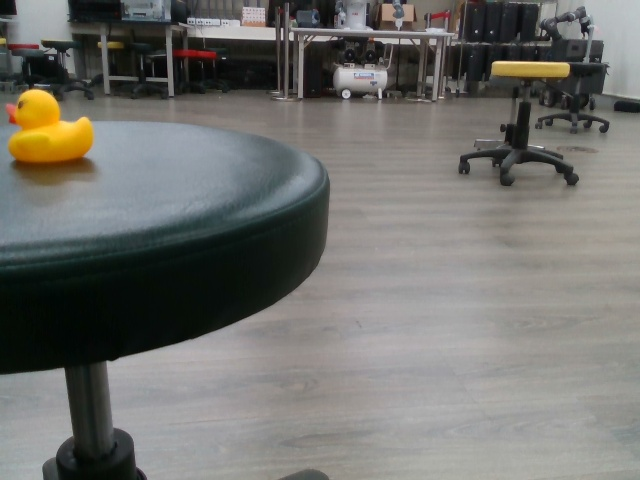duck: (4, 84, 97, 162)
